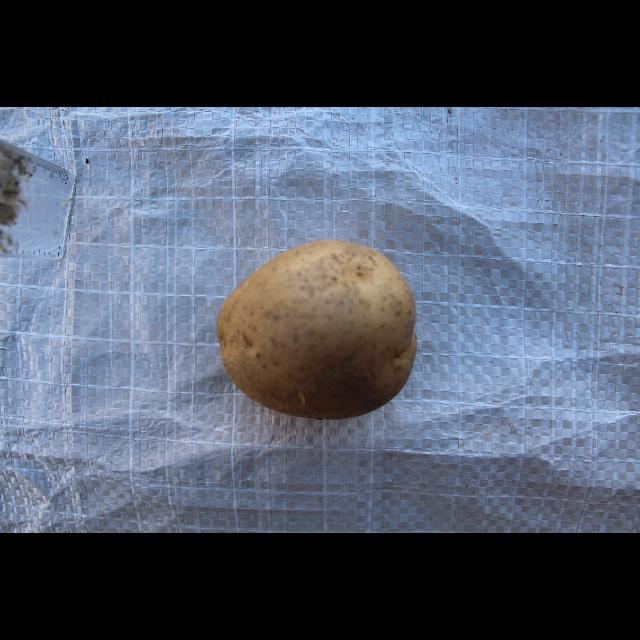Diseased-fungal potato: (212, 237, 420, 418)
